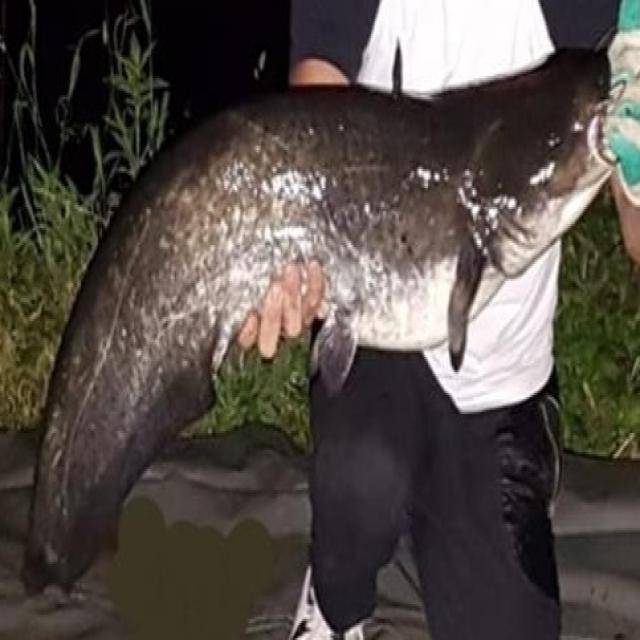Catfish: (24, 29, 623, 619)
